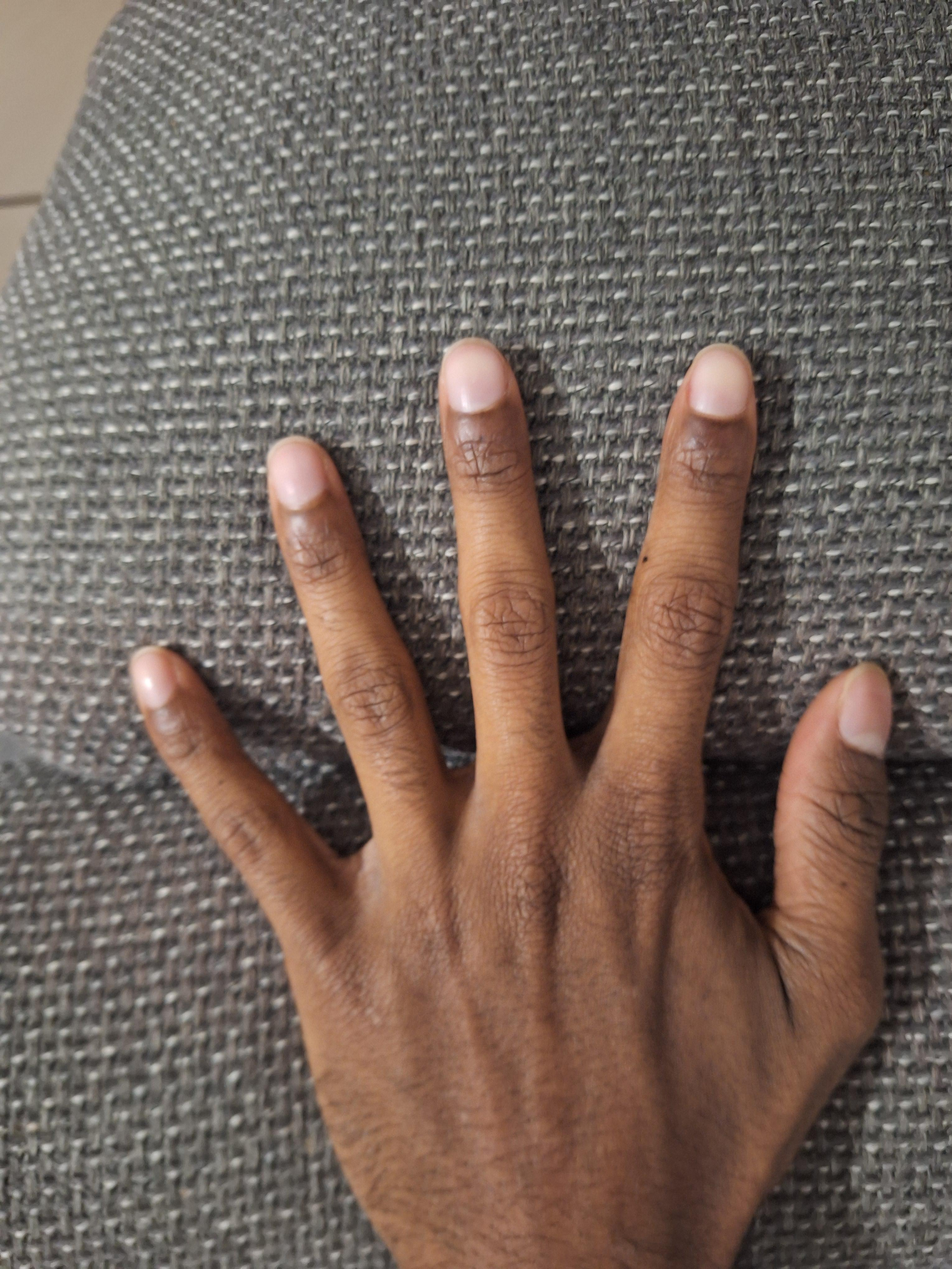Fingernail: (839, 663, 891, 757), (443, 338, 506, 414), (688, 344, 752, 418), (267, 437, 325, 510), (129, 647, 177, 709)
